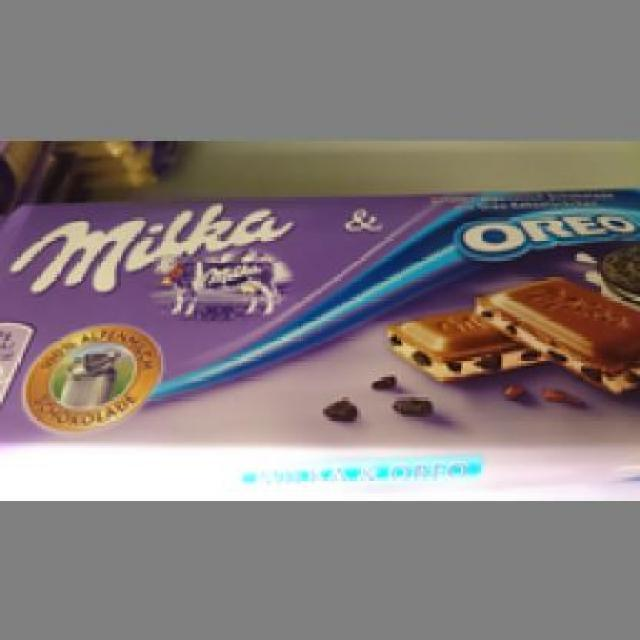Chocolate: (0, 200, 635, 441)
